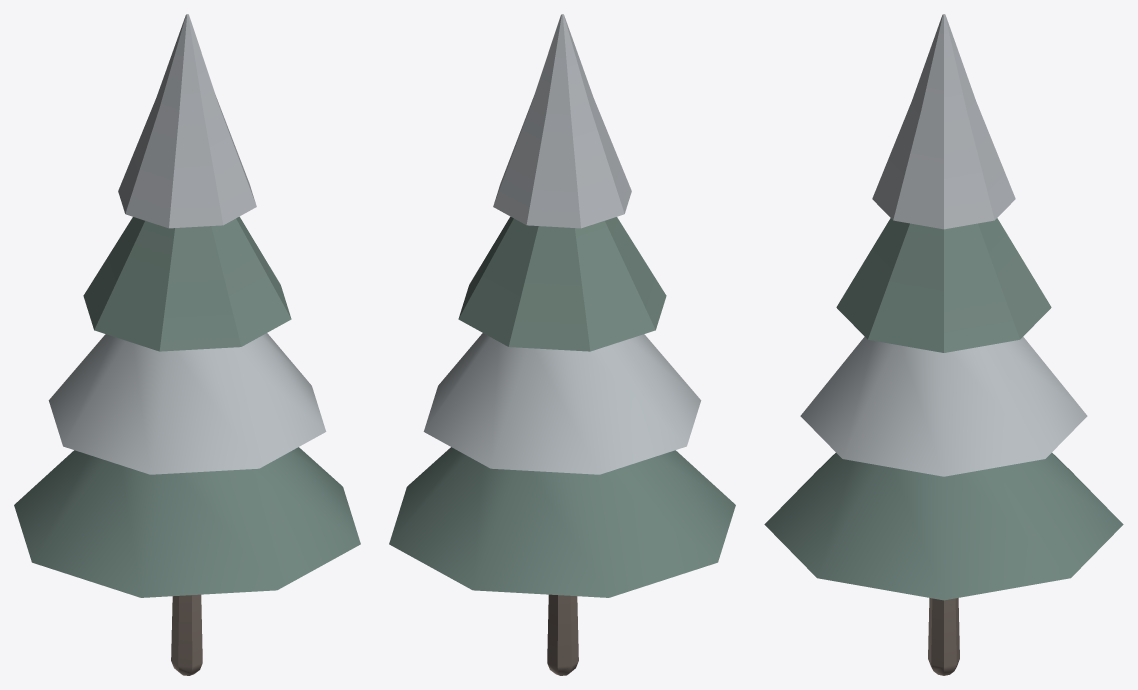
Rendered from tree_pine.gltf.
3 views of the same model, side by side, from view 1: azimuth 30°, elevation 25°; view 2: azimuth 150°, elevation 25°; view 3: azimuth 270°, elevation 25° (orthographic).
Visible parts, largest first — view 1: Body; view 2: Body; view 3: Body.
Part boxes in pixels (x1=…): Body: x1=14, y1=14, x2=360, y2=675; Body: x1=389, y1=14, x2=735, y2=675; Body: x1=764, y1=14, x2=1123, y2=675.
Size of the model in its own units: 4.8 by 9.71 by 4.8.
